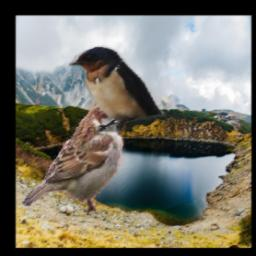Sparrow: (21, 103, 125, 216)
Swallow: (69, 46, 165, 133)
